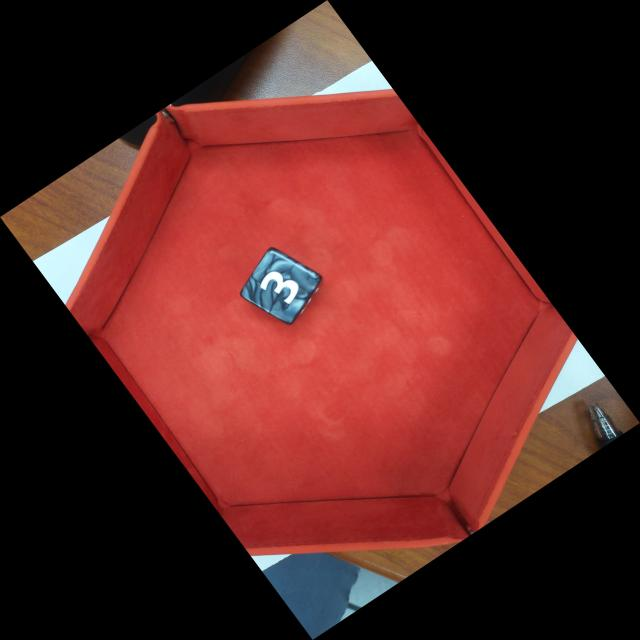dice: (236, 247, 325, 328)
